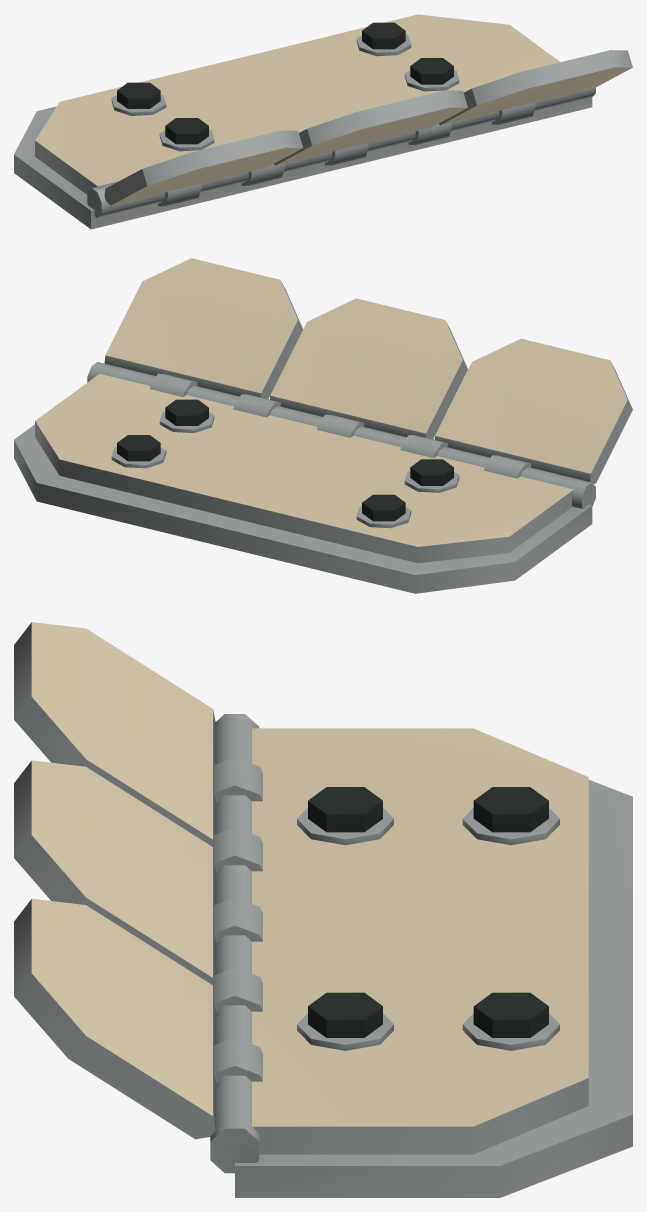
Rendered from panel_skirt.glb.
The picture shows the model from 3 angles, top to bottom: view 1: azimuth 30°, elevation 25°; view 2: azimuth 150°, elevation 25°; view 3: azimuth 270°, elevation 25°; orthographic projection. The views are drawn at different scales.
Visible parts, largest first — view 1: panel_skirt; view 2: panel_skirt; view 3: panel_skirt.
Part boxes in pixels (x1,y1,x2,y2): panel_skirt: (14,14,632,229); panel_skirt: (14,258,632,593); panel_skirt: (14,622,632,1197).
Bounding box in the file's own units: 0.45 × 0.0948 × 0.2799.
